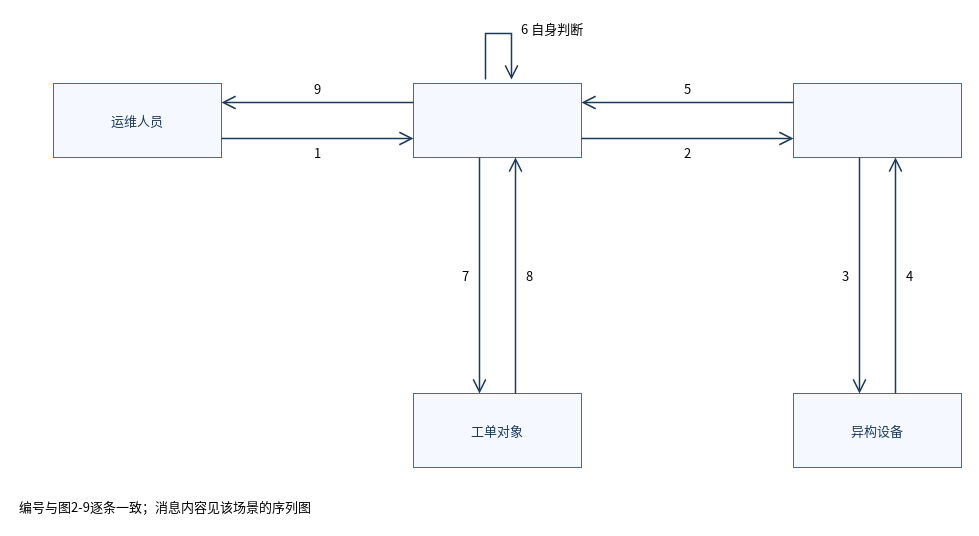
This 979x536 diagram has some shape labels left out. Here are the shapes that lost their labels. From the top down, the centre of each, then its label:
At pixel 497 120: "监测协调".
At pixel 877 120: "设备适配".
